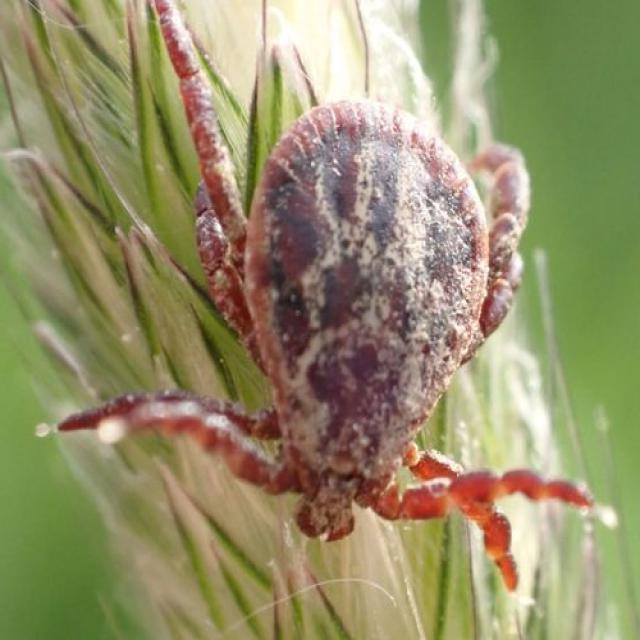Dermacentor Reticulatus-M: (56, 0, 591, 595)
